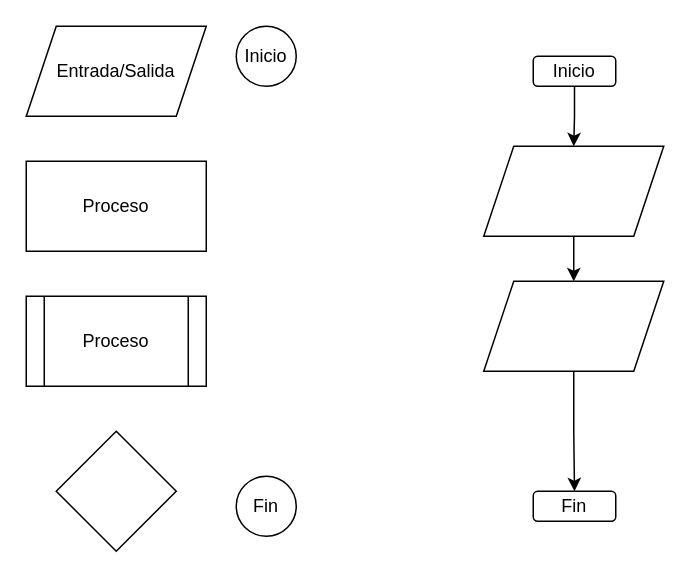
Image size: 690x578. Some labels were removed from this diagram. Here are the shapes that lost their labels. From the top down, the centre of each, then its label:
At point (573, 190): "Dame un número".
At point (573, 325): "Muestra el número".
At point (115, 490): "Condición".
